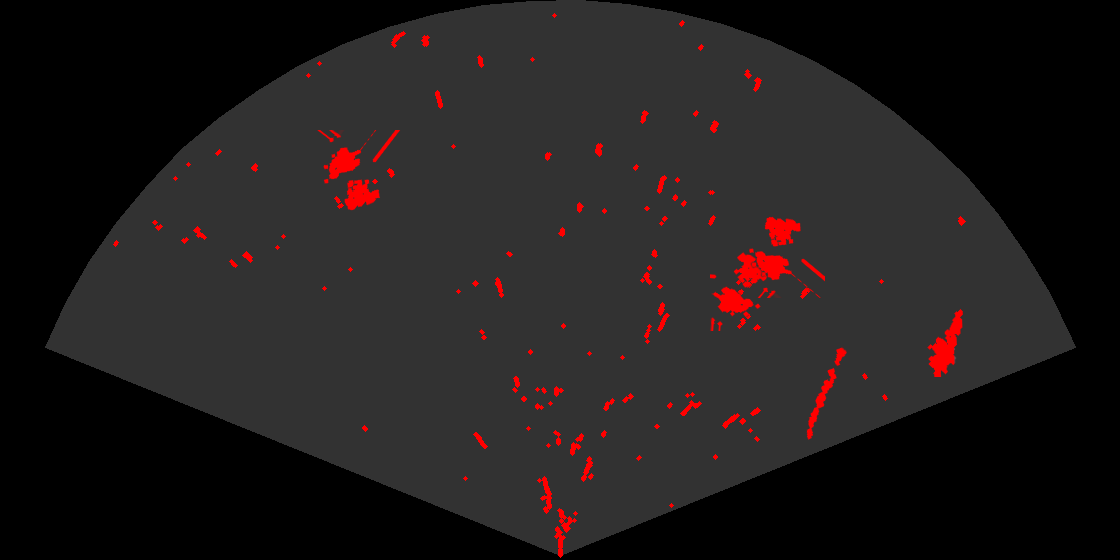cage: (316, 130, 402, 212), (748, 215, 825, 298), (710, 251, 771, 331)
chain: (805, 345, 848, 441)
frogman: (926, 308, 965, 377)
